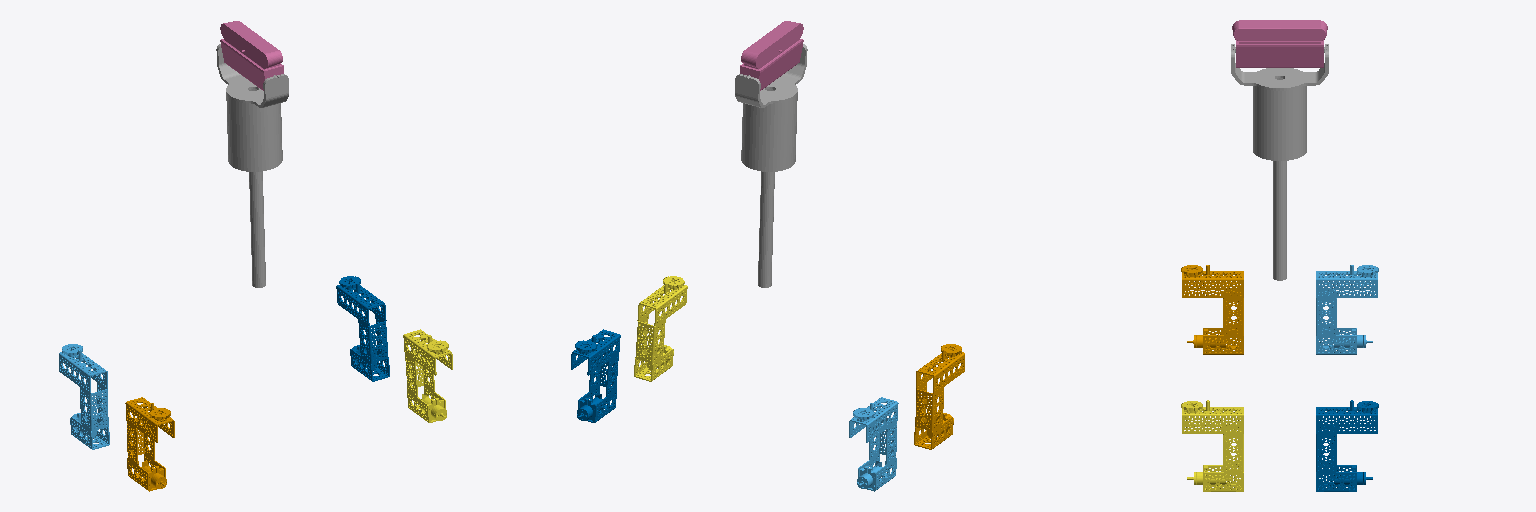
robot.urdf — beetle:
<?xml version="1.0" ?>
<robot name="beetle">
  <joint name="beetle__rear_right_wheel_joint" type="fixed">
    <parent link="beetle__rear_right_corner_link"/>
    <child link="beetle__rear_right_wheel_link"/>
    <origin rpy="0 0 0" xyz="0.00491  0.00094 -0.1525"/>
    <axis xyz="0 1 0"/>
    <limit effort="0.0" lower="0.0" upper="0.0" velocity="0.0"/>
  </joint>
  <joint name="beetle__rear_left_corner_joint" type="revolute">
    <parent link="beetle__rear_left_rocker_bogie_link"/>
    <child link="beetle__rear_left_corner_link"/>
    <origin rpy="0 0 0" xyz="-0.18878 -0.01905 -0.0568"/>
    <axis xyz="-0.0322   0       0.99948"/>
    <limit effort="0.0" lower="-0.785398163397" upper="0.785398163397" velocity="0.0"/>
  </joint>
  <joint name="beetle__left_rocker_bogie_joint" type="revolute">
    <parent link="beetle__rear_left_rocker_bogie_link"/>
    <child link="beetle__front_left_rocker_bogie_link"/>
    <origin rpy="0 0 0" xyz="0.18725  0.00355 -0.10193"/>
    <axis xyz="0 -1  0"/>
    <limit effort="0.0" lower="-0.698131700798" upper="0.698131700798" velocity="0.0"/>
  </joint>
  <joint name="beetle__left_chassis_joint" type="fixed">
    <parent link="beetle__base_link"/>
    <child link="beetle__rear_left_rocker_bogie_link"/>
    <origin rpy="0 0 0" xyz="-0.11274  0.18     0.2843"/>
    <axis xyz="0 1 0"/>
    <limit effort="0.0" lower="0.0" upper="0.0" velocity="0.0"/>
  </joint>
  <joint name="beetle__right_chassis_joint" type="fixed">
    <parent link="beetle__base_link"/>
    <child link="beetle__rear_right_rocker_bogie_link"/>
    <origin rpy="0 0 0" xyz="-0.11274 -0.18     0.2843"/>
    <axis xyz="0 -1  0"/>
    <limit effort="0.0" lower="0.0" upper="0.0" velocity="0.0"/>
  </joint>
  <joint name="beetle__camera_mast_joint" type="revolute">
    <parent link="beetle__base_link"/>
    <child link="beetle__camera_mast_link"/>
    <origin rpy="0 0 0" xyz="0.00158 0      0.34254"/>
    <axis xyz="0.03141  0      -0.9995"/>
    <limit effort="0.0" lower="-1.3962634016" upper="1.3962634016" velocity="0.0"/>
  </joint>
  <joint name="beetle__rear_right_corner_joint" type="revolute">
    <parent link="beetle__rear_right_rocker_bogie_link"/>
    <child link="beetle__rear_right_corner_link"/>
    <origin rpy="0 0 0" xyz="-0.18878  0.01905 -0.0568"/>
    <axis xyz="0.0322   0      -0.99948"/>
    <limit effort="0.0" lower="-0.785398163397" upper="0.785398163397" velocity="0.0"/>
  </joint>
  <joint name="beetle__right_rocker_bogie_joint" type="revolute">
    <parent link="beetle__rear_right_rocker_bogie_link"/>
    <child link="beetle__front_right_rocker_bogie_link"/>
    <origin rpy="0 0 0" xyz="0.18725 -0.00355 -0.10193"/>
    <axis xyz="0 -1  0"/>
    <limit effort="0.0" lower="-0.698131700798" upper="0.698131700798" velocity="0.0"/>
  </joint>
  <joint name="beetle__center_right_wheel_joint" type="fixed">
    <parent link="beetle__front_right_rocker_bogie_link"/>
    <child link="beetle__center_right_wheel_link"/>
    <origin rpy="0 0 0" xyz="-0.05776 -0.0529  -0.1073"/>
    <axis xyz="0 1 0"/>
    <limit effort="0.0" lower="0.0" upper="0.0" velocity="0.0"/>
  </joint>
  <joint name="beetle__front_right_corner_joint" type="revolute">
    <parent link="beetle__front_right_rocker_bogie_link"/>
    <child link="beetle__front_right_corner_link"/>
    <origin rpy="0 0 0" xyz="0.21168 0.0226  0.04457"/>
    <axis xyz="-0.0683   0       0.99766"/>
    <limit effort="0.0" lower="-0.785398163397" upper="0.785398163397" velocity="0.0"/>
  </joint>
  <joint name="beetle__rear_left_wheel_joint" type="fixed">
    <parent link="beetle__rear_left_corner_link"/>
    <child link="beetle__rear_left_wheel_link"/>
    <origin rpy="0 0 0" xyz="0.00491 -0.00094 -0.1525"/>
    <axis xyz="0 1 0"/>
    <limit effort="0.0" lower="0.0" upper="0.0" velocity="0.0"/>
  </joint>
  <joint name="beetle__front_left_wheel_joint" type="fixed">
    <parent link="beetle__front_left_corner_link"/>
    <child link="beetle__front_left_wheel_link"/>
    <origin rpy="0 0 0" xyz="0.01042 -0.00094 -0.15222"/>
    <axis xyz="0 1 0"/>
    <limit effort="0.0" lower="0.0" upper="0.0" velocity="0.0"/>
  </joint>
  <joint name="beetle__front_right_wheel_joint" type="fixed">
    <parent link="beetle__front_right_corner_link"/>
    <child link="beetle__front_right_wheel_link"/>
    <origin rpy="0 0 0" xyz="0.01042  0.00094 -0.15222"/>
    <axis xyz="0 1 0"/>
    <limit effort="0.0" lower="0.0" upper="0.0" velocity="0.0"/>
  </joint>
  <joint name="beetle__center_left_wheel_joint" type="fixed">
    <parent link="beetle__front_left_rocker_bogie_link"/>
    <child link="beetle__center_left_wheel_link"/>
    <origin rpy="0 0 0" xyz="-0.05776  0.0529  -0.1073"/>
    <axis xyz="0 1 0"/>
    <limit effort="0.0" lower="0.0" upper="0.0" velocity="0.0"/>
  </joint>
  <joint name="beetle__front_left_corner_joint" type="revolute">
    <parent link="beetle__front_left_rocker_bogie_link"/>
    <child link="beetle__front_left_corner_link"/>
    <origin rpy="0 0 0" xyz="0.21168 -0.0226   0.04457"/>
    <axis xyz="0.0683   0      -0.99766"/>
    <limit effort="0.0" lower="-0.785398163397" upper="0.785398163397" velocity="0.0"/>
  </joint>
  <joint name="beetle__camera_joint" type="revolute">
    <parent link="beetle__camera_mast_link"/>
    <child link="beetle__camera_link"/>
    <origin rpy="0 0 0" xyz="-0.01429 -0.0805   0.45477"/>
    <axis xyz="0 1 0"/>
    <limit effort="0.0" lower="-1.0471975512" upper="1.0471975512" velocity="0.0"/>
  </joint>
  <link name="beetle__rear_left_wheel_link">
    <inertial>
      <mass value="2.043725231597376"/>
      <origin rpy="0 0 0" xyz="-0.00166  0.007   -0.00127"/>
      <inertia ixx="0.0746738734124826" ixy="0.10181266464888324" ixz="-0.025166443959839097" iyy="0.20225284982598843" iyz="0.04505992943336661" izz="0.24533609116251942"/>
    </inertial>
    <collision name="beetle__rear_left_wheel_link_collision">
      <origin rpy="0 0 0" xyz="-0.00166  0.007   -0.00127"/>
      <geometry>
        <mesh filename="package://beetle_sim_description/meshes/CAD/rear_left_wheel_link.stl" scale="0.001 0.001 0.001"/>
      </geometry>
    </collision>
    <visual name="beetle__rear_left_wheel_link_visual">
      <origin rpy="0 0 0" xyz="-0.00166  0.007   -0.00127"/>
      <geometry>
        <mesh filename="package://beetle_sim_description/meshes/CAD/rear_left_wheel_link.stl" scale="0.001 0.001 0.001"/>
      </geometry>
    </visual>
  </link>
  <link name="beetle__rear_left_corner_link">
    <inertial>
      <mass value="0.2210132081934555"/>
      <origin rpy="0 0 0" xyz="0.00329 -0.04288 -0.1023"/>
      <inertia ixx="0.0075258022226624395" ixy="0.007784747732584186" ixz="-0.0033425094329746123" iyy="0.023920791469126526" iyz="0.008275787660172082" izz="0.022995355900298418"/>
    </inertial>
    <collision name="beetle__rear_left_corner_link_collision">
      <origin rpy="0 0 0" xyz="0.00329 -0.04288 -0.1023"/>
      <geometry>
        <mesh filename="package://beetle_sim_description/meshes/CAD/rear_left_corner_link.stl" scale="0.001 0.001 0.001"/>
      </geometry>
    </collision>
    <visual name="beetle__rear_left_corner_link_visual">
      <origin rpy="0 0 0" xyz="0.00329 -0.04288 -0.1023"/>
      <geometry>
        <mesh filename="package://beetle_sim_description/meshes/CAD/rear_left_corner_link.stl" scale="0.001 0.001 0.001"/>
      </geometry>
    </visual>
  </link>
  <link name="beetle__center_left_wheel_link">
    <inertial>
      <mass value="2.0437270859984764"/>
      <origin rpy="0 0 0" xyz="-0.00162  0.007   -0.00132"/>
      <inertia ixx="0.13880876289980676" ixy="-0.007531100506247499" ixz="-0.036693734635255236" iyy="0.02088996629598762" iyz="-0.0021648022612260837" izz="0.12811640071205482"/>
    </inertial>
    <collision name="beetle__center_left_wheel_link_collision">
      <origin rpy="0 0 0" xyz="-0.00162  0.007   -0.00132"/>
      <geometry>
        <mesh filename="package://beetle_sim_description/meshes/CAD/center_left_wheel_link.stl" scale="0.001 0.001 0.001"/>
      </geometry>
    </collision>
    <visual name="beetle__center_left_wheel_link_visual">
      <origin rpy="0 0 0" xyz="-0.00162  0.007   -0.00132"/>
      <geometry>
        <mesh filename="package://beetle_sim_description/meshes/CAD/center_left_wheel_link.stl" scale="0.001 0.001 0.001"/>
      </geometry>
    </visual>
  </link>
  <link name="beetle__front_left_wheel_link">
    <inertial>
      <mass value="2.043727045506392"/>
      <origin rpy="0 0 0" xyz="-0.00162  0.007   -0.00132"/>
      <inertia ixx="0.07456396781137574" ixy="-0.10069424178314057" ixz="-0.025051102363371384" iyy="0.19816477038685262" iyz="-0.04413125265487558" izz="0.2413580292791333"/>
    </inertial>
    <collision name="beetle__front_left_wheel_link_collision">
      <origin rpy="0 0 0" xyz="-0.00162  0.007   -0.00132"/>
      <geometry>
        <mesh filename="package://beetle_sim_description/meshes/CAD/front_left_wheel_link.stl" scale="0.001 0.001 0.001"/>
      </geometry>
    </collision>
    <visual name="beetle__front_left_wheel_link_visual">
      <origin rpy="0 0 0" xyz="-0.00162  0.007   -0.00132"/>
      <geometry>
        <mesh filename="package://beetle_sim_description/meshes/CAD/front_left_wheel_link.stl" scale="0.001 0.001 0.001"/>
      </geometry>
    </visual>
  </link>
  <link name="beetle__front_left_corner_link">
    <inertial>
      <mass value="0.22101736205093958"/>
      <origin rpy="0 0 0" xyz="0.00698 -0.04288 -0.10211"/>
      <inertia ixx="0.007502980451765577" ixy="-0.007645428538318532" ixz="-0.0033328496534462105" iyy="0.023240150629810795" iyz="-0.008039273386966628" izz="0.022337806813265405"/>
    </inertial>
    <collision name="beetle__front_left_corner_link_collision">
      <origin rpy="0 0 0" xyz="0.00698 -0.04288 -0.10211"/>
      <geometry>
        <mesh filename="package://beetle_sim_description/meshes/CAD/front_left_corner_link.stl" scale="0.001 0.001 0.001"/>
      </geometry>
    </collision>
    <visual name="beetle__front_left_corner_link_visual">
      <origin rpy="0 0 0" xyz="0.00698 -0.04288 -0.10211"/>
      <geometry>
        <mesh filename="package://beetle_sim_description/meshes/CAD/front_left_corner_link.stl" scale="0.001 0.001 0.001"/>
      </geometry>
    </visual>
  </link>
  <link name="beetle__front_left_rocker_bogie_link">
    <inertial>
      <mass value="0.8445676376518956"/>
      <origin rpy="0 0 0" xyz="0.05876 -0.01776  0.02115"/>
      <inertia ixx="0.06277874581658051" ixy="-0.018225666823205547" ixz="-0.027993579038419338" iyy="0.0625707398780842" iyz="-0.027586336774433586" izz="0.04707546758213575"/>
    </inertial>
    <collision name="beetle__front_left_rocker_bogie_link_collision">
      <origin rpy="0 0 0" xyz="0.05876 -0.01776  0.02115"/>
      <geometry>
        <mesh filename="package://beetle_sim_description/meshes/CAD/front_left_rocker_bogie_link.stl" scale="0.001 0.001 0.001"/>
      </geometry>
    </collision>
    <visual name="beetle__front_left_rocker_bogie_link_visual">
      <origin rpy="0 0 0" xyz="0.05876 -0.01776  0.02115"/>
      <geometry>
        <mesh filename="package://beetle_sim_description/meshes/CAD/front_left_rocker_bogie_link.stl" scale="0.001 0.001 0.001"/>
      </geometry>
    </visual>
  </link>
  <link name="beetle__rear_left_rocker_bogie_link">
    <inertial>
      <mass value="0.909645424954701"/>
      <origin rpy="0 0 0" xyz="0.00944 -0.01887 -0.02774"/>
      <inertia ixx="0.08532861005297555" ixy="0.015169448278743778" ixz="-0.03760121707003846" iyy="0.08780317442619136" iyz="0.026524480712805516" izz="0.050332437137122966"/>
    </inertial>
    <collision name="beetle__rear_left_rocker_bogie_link_collision">
      <origin rpy="0 0 0" xyz="0.00944 -0.01887 -0.02774"/>
      <geometry>
        <mesh filename="package://beetle_sim_description/meshes/CAD/rear_left_rocker_bogie_link.stl" scale="0.001 0.001 0.001"/>
      </geometry>
    </collision>
    <visual name="beetle__rear_left_rocker_bogie_link_visual">
      <origin rpy="0 0 0" xyz="0.00944 -0.01887 -0.02774"/>
      <geometry>
        <mesh filename="package://beetle_sim_description/meshes/CAD/rear_left_rocker_bogie_link.stl" scale="0.001 0.001 0.001"/>
      </geometry>
    </visual>
  </link>
  <link name="beetle__rear_right_wheel_link">
    <inertial>
      <mass value="2.044451252660024"/>
      <origin rpy="0 0 0" xyz="-0.00166 -0.007   -0.00127"/>
      <inertia ixx="0.07469406824081799" ixy="-0.10184477562870979" ixz="0.025172793659822952" iyy="0.20232289121514832" iyz="0.04507241398756659" izz="0.2454185582224127"/>
    </inertial>
    <collision name="beetle__rear_right_wheel_link_collision">
      <origin rpy="0 0 0" xyz="-0.00166 -0.007   -0.00127"/>
      <geometry>
        <mesh filename="package://beetle_sim_description/meshes/CAD/rear_right_wheel_link.stl" scale="0.001 0.001 0.001"/>
      </geometry>
    </collision>
    <visual name="beetle__rear_right_wheel_link_visual">
      <origin rpy="0 0 0" xyz="-0.00166 -0.007   -0.00127"/>
      <geometry>
        <mesh filename="package://beetle_sim_description/meshes/CAD/rear_right_wheel_link.stl" scale="0.001 0.001 0.001"/>
      </geometry>
    </visual>
  </link>
  <link name="beetle__rear_right_corner_link">
    <inertial>
      <mass value="0.22101320819345527"/>
      <origin rpy="0 0 0" xyz="0.00329  0.04288 -0.1023"/>
      <inertia ixx="0.0075258022226623155" ixy="-0.007784747732583991" ixz="0.003342509432974542" iyy="0.023920791469126637" iyz="0.008275787660172139" izz="0.022995355900298334"/>
    </inertial>
    <collision name="beetle__rear_right_corner_link_collision">
      <origin rpy="0 0 0" xyz="0.00329  0.04288 -0.1023"/>
      <geometry>
        <mesh filename="package://beetle_sim_description/meshes/CAD/rear_right_corner_link.stl" scale="0.001 0.001 0.001"/>
      </geometry>
    </collision>
    <visual name="beetle__rear_right_corner_link_visual">
      <origin rpy="0 0 0" xyz="0.00329  0.04288 -0.1023"/>
      <geometry>
        <mesh filename="package://beetle_sim_description/meshes/CAD/rear_right_corner_link.stl" scale="0.001 0.001 0.001"/>
      </geometry>
    </visual>
  </link>
  <link name="beetle__center_right_wheel_link">
    <inertial>
      <mass value="2.044453107769063"/>
      <origin rpy="0 0 0" xyz="-0.00162 -0.00699 -0.00133"/>
      <inertia ixx="0.13884972412083063" ixy="0.007533798765844787" ixz="0.03670329151928735" iyy="0.020895725910412718" iyz="-0.0021654619527637217" izz="0.12815534858815897"/>
    </inertial>
    <collision name="beetle__center_right_wheel_link_collision">
      <origin rpy="0 0 0" xyz="-0.00162 -0.00699 -0.00133"/>
      <geometry>
        <mesh filename="package://beetle_sim_description/meshes/CAD/center_right_wheel_link.stl" scale="0.001 0.001 0.001"/>
      </geometry>
    </collision>
    <visual name="beetle__center_right_wheel_link_visual">
      <origin rpy="0 0 0" xyz="-0.00162 -0.00699 -0.00133"/>
      <geometry>
        <mesh filename="package://beetle_sim_description/meshes/CAD/center_right_wheel_link.stl" scale="0.001 0.001 0.001"/>
      </geometry>
    </visual>
  </link>
  <link name="beetle__front_right_wheel_link">
    <inertial>
      <mass value="2.0444530672746373"/>
      <origin rpy="0 0 0" xyz="-0.00162 -0.007   -0.00133"/>
      <inertia ixx="0.07458413517596313" ixy="0.10072628893577579" ixz="0.025057420807144456" iyy="0.19823386834617238" iyz="-0.0441435518299059" izz="0.24143958040629396"/>
    </inertial>
    <collision name="beetle__front_right_wheel_link_collision">
      <origin rpy="0 0 0" xyz="-0.00162 -0.007   -0.00133"/>
      <geometry>
        <mesh filename="package://beetle_sim_description/meshes/CAD/front_right_wheel_link.stl" scale="0.001 0.001 0.001"/>
      </geometry>
    </collision>
    <visual name="beetle__front_right_wheel_link_visual">
      <origin rpy="0 0 0" xyz="-0.00162 -0.007   -0.00133"/>
      <geometry>
        <mesh filename="package://beetle_sim_description/meshes/CAD/front_right_wheel_link.stl" scale="0.001 0.001 0.001"/>
      </geometry>
    </visual>
  </link>
  <link name="beetle__front_right_corner_link">
    <inertial>
      <mass value="0.22101736205093941"/>
      <origin rpy="0 0 0" xyz="0.00698  0.04288 -0.10211"/>
      <inertia ixx="0.0075029804517652956" ixy="0.0076454285383182625" ixz="0.0033328496534460656" iyy="0.02324015062981061" iyz="-0.008039273386966521" izz="0.02233780681326509"/>
    </inertial>
    <collision name="beetle__front_right_corner_link_collision">
      <origin rpy="0 0 0" xyz="0.00698  0.04288 -0.10211"/>
      <geometry>
        <mesh filename="package://beetle_sim_description/meshes/CAD/front_right_corner_link.stl" scale="0.001 0.001 0.001"/>
      </geometry>
    </collision>
    <visual name="beetle__front_right_corner_link_visual">
      <origin rpy="0 0 0" xyz="0.00698  0.04288 -0.10211"/>
      <geometry>
        <mesh filename="package://beetle_sim_description/meshes/CAD/front_right_corner_link.stl" scale="0.001 0.001 0.001"/>
      </geometry>
    </visual>
  </link>
  <link name="beetle__front_right_rocker_bogie_link">
    <inertial>
      <mass value="0.8445809006011908"/>
      <origin rpy="0 0 0" xyz="0.05876 0.01776 0.02115"/>
      <inertia ixx="0.0627801473161565" ixy="0.01822631425280775" ixz="0.02799418809032146" iyy="0.06257288491107471" iyz="-0.027587399443392186" izz="0.0470769630960935"/>
    </inertial>
    <collision name="beetle__front_right_rocker_bogie_link_collision">
      <origin rpy="0 0 0" xyz="0.05876 0.01776 0.02115"/>
      <geometry>
        <mesh filename="package://beetle_sim_description/meshes/CAD/front_right_rocker_bogie_link.stl" scale="0.001 0.001 0.001"/>
      </geometry>
    </collision>
    <visual name="beetle__front_right_rocker_bogie_link_visual">
      <origin rpy="0 0 0" xyz="0.05876 0.01776 0.02115"/>
      <geometry>
        <mesh filename="package://beetle_sim_description/meshes/CAD/front_right_rocker_bogie_link.stl" scale="0.001 0.001 0.001"/>
      </geometry>
    </visual>
  </link>
  <link name="beetle__rear_right_rocker_bogie_link">
    <inertial>
      <mass value="0.909662036731427"/>
      <origin rpy="0 0 0" xyz="0.00943  0.01887 -0.02774"/>
      <inertia ixx="0.08533010423763508" ixy="-0.015170007379640263" ixz="0.037601862212452715" iyy="0.08780572228631979" iyz="0.02652559625120754" izz="0.050334217754120406"/>
    </inertial>
    <collision name="beetle__rear_right_rocker_bogie_link_collision">
      <origin rpy="0 0 0" xyz="0.00943  0.01887 -0.02774"/>
      <geometry>
        <mesh filename="package://beetle_sim_description/meshes/CAD/rear_right_rocker_bogie_link.stl" scale="0.001 0.001 0.001"/>
      </geometry>
    </collision>
    <visual name="beetle__rear_right_rocker_bogie_link_visual">
      <origin rpy="0 0 0" xyz="0.00943  0.01887 -0.02774"/>
      <geometry>
        <mesh filename="package://beetle_sim_description/meshes/CAD/rear_right_rocker_bogie_link.stl" scale="0.001 0.001 0.001"/>
      </geometry>
    </visual>
  </link>
  <link name="beetle__camera_link">
    <inertial>
      <mass value="2.330581194890767"/>
      <origin rpy="0 0 0" xyz="-0.00077  0.08055  0.01857"/>
      <inertia ixx="1.5581916852701763" ixy="1.547810564267169e-06" ixz="-9.99668446917764e-05" iyy="1.5534372776785443" iyz="0.025679666342472138" izz="0.006221999741365755"/>
    </inertial>
    <collision name="beetle__camera_link_collision">
      <origin rpy="0 0 0" xyz="-0.00077  0.08055  0.01857"/>
      <geometry>
        <mesh filename="package://beetle_sim_description/meshes/CAD/camera_link.stl" scale="0.001 0.001 0.001"/>
      </geometry>
    </collision>
    <visual name="beetle__camera_link_visual">
      <origin rpy="0 0 0" xyz="-0.00077  0.08055  0.01857"/>
      <geometry>
        <mesh filename="package://beetle_sim_description/meshes/CAD/camera_link.stl" scale="0.001 0.001 0.001"/>
      </geometry>
    </visual>
  </link>
  <link name="beetle__camera_mast_link">
    <inertial>
      <mass value="3.1248105350339057"/>
      <origin rpy="0 0 0" xyz="-0.01017  0       0.32336"/>
      <inertia ixx="1.4164659310174033" ixy="5.7906490147450536e-08" ixz="-4.490232017620334e-06" iyy="1.4137891897013357" iyz="0.018603956680717276" izz="0.007776633228713614"/>
    </inertial>
    <collision name="beetle__camera_mast_link_collision">
      <origin rpy="0 0 0" xyz="-0.01017  0       0.32336"/>
      <geometry>
        <mesh filename="package://beetle_sim_description/meshes/CAD/camera_mast_link.stl" scale="0.001 0.001 0.001"/>
      </geometry>
    </collision>
    <visual name="beetle__camera_mast_link_visual">
      <origin rpy="0 0 0" xyz="-0.01017  0       0.32336"/>
      <geometry>
        <mesh filename="package://beetle_sim_description/meshes/CAD/camera_mast_link.stl" scale="0.001 0.001 0.001"/>
      </geometry>
    </visual>
  </link>
  <link name="beetle__base_link">
    <inertial>
      <mass value="2.914500428469798"/>
      <origin rpy="0 0 0" xyz="-0.13448  0.00486  0.29883"/>
      <inertia ixx="0.282551972755833" ixy="0.0035710968000186223" ixz="-0.0037509260143349424" iyy="0.3606061435533601" iyz="0.11070144422781696" izz="0.10756603542751796"/>
    </inertial>
    <collision name="beetle__base_link_collision">
      <origin rpy="0 0 0" xyz="-0.13448  0.00486  0.29883"/>
      <geometry>
        <mesh filename="package://beetle_sim_description/meshes/CAD/base_link.stl" scale="0.001 0.001 0.001"/>
      </geometry>
    </collision>
    <visual name="beetle__base_link_visual">
      <origin rpy="0 0 0" xyz="-0.13448  0.00486  0.29883"/>
      <geometry>
        <mesh filename="package://beetle_sim_description/meshes/CAD/base_link.stl" scale="0.001 0.001 0.001"/>
      </geometry>
    </visual>
  </link>
</robot>

--- Render facts (derived) ---
3 views of the same robot in one strip: view 1: azimuth 30°, elevation 25°; view 2: azimuth 150°, elevation 25°; view 3: azimuth 270°, elevation 25° (orthographic).
Robot: beetle — 17 links, 16 joints (8 revolute, 8 fixed); root link beetle__base_link; default pose: all joints at 0.
Visible links, largest first — view 1: beetle__camera_mast_link, beetle__rear_left_corner_link, beetle__front_left_corner_link, beetle__rear_right_corner_link, beetle__front_right_corner_link, beetle__camera_link; view 2: beetle__camera_mast_link, beetle__rear_right_corner_link, beetle__front_right_corner_link, beetle__rear_left_corner_link, beetle__front_left_corner_link, beetle__camera_link; view 3: beetle__camera_mast_link, beetle__camera_link, beetle__front_left_corner_link, beetle__front_right_corner_link, beetle__rear_left_corner_link, beetle__rear_right_corner_link.
Boxes of the visible links, x1,y1,x2,y2 form: beetle__camera_mast_link: (216,44,288,287); beetle__rear_left_corner_link: (59,344,109,449); beetle__front_left_corner_link: (336,276,389,381); beetle__rear_right_corner_link: (125,397,174,491); beetle__front_right_corner_link: (403,329,452,422); beetle__camera_link: (220,21,283,90); beetle__camera_mast_link: (735,44,807,287); beetle__rear_right_corner_link: (914,344,964,449); beetle__front_right_corner_link: (634,276,687,381); beetle__rear_left_corner_link: (849,397,898,491); beetle__front_left_corner_link: (571,329,620,422); beetle__camera_link: (740,21,803,90); beetle__camera_mast_link: (1231,44,1328,280); beetle__camera_link: (1232,20,1327,67); beetle__front_left_corner_link: (1316,400,1378,491); beetle__front_right_corner_link: (1181,400,1243,491); beetle__rear_left_corner_link: (1316,265,1378,354); beetle__rear_right_corner_link: (1181,265,1243,354).
Bounding box of the posed robot: 0.6379 × 0.3616 × 0.7942 m (x, y, z).
Meshes: 17 distinct files referenced, 6 mesh visuals loaded (6 binary STL); not drawn: 11 (reference not matched to a file when rendering).